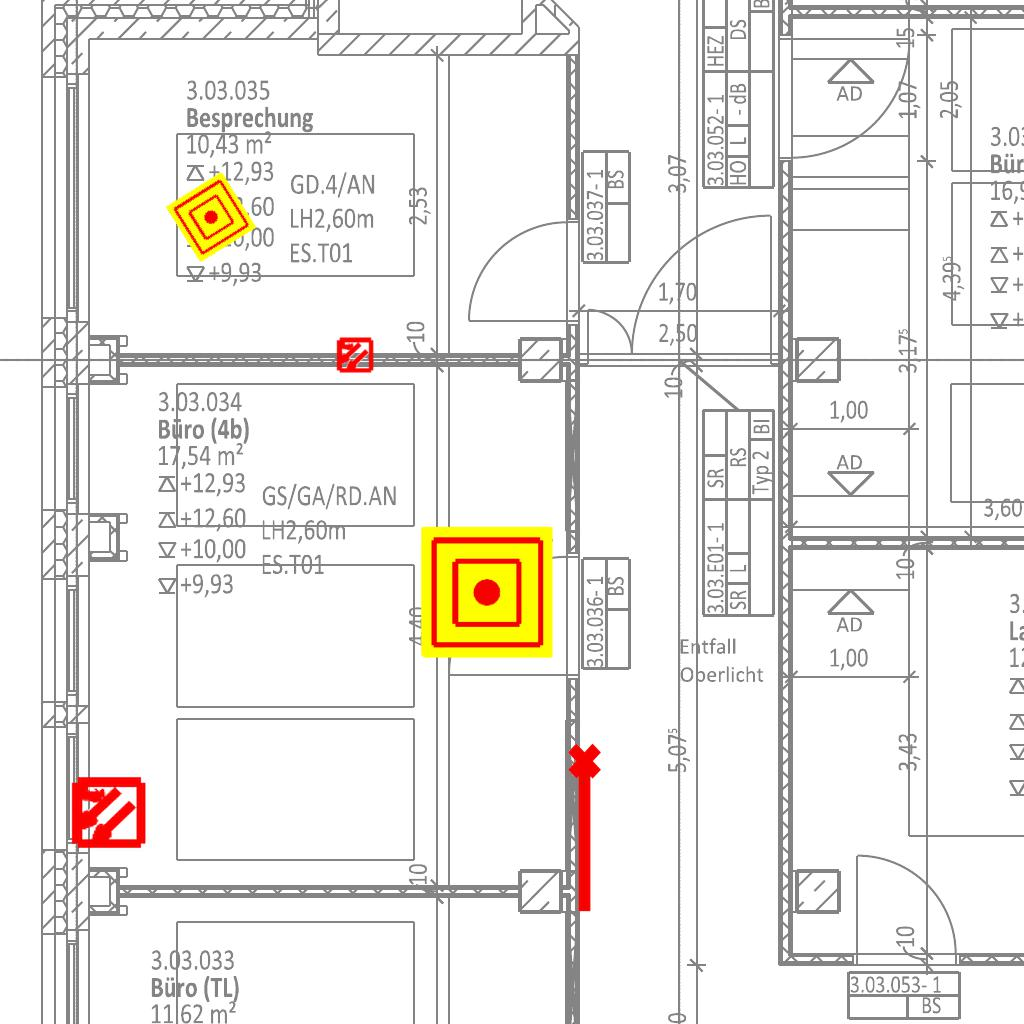ASR_Ansaugoeffnung: (564, 741, 610, 917)
NAM-Nichtautomatischer_Melder: (421, 526, 553, 658), (165, 171, 257, 263)
OT_Multisensormelder_(Kombination_RMO_WMD): (50, 756, 163, 869), (326, 327, 382, 383)
